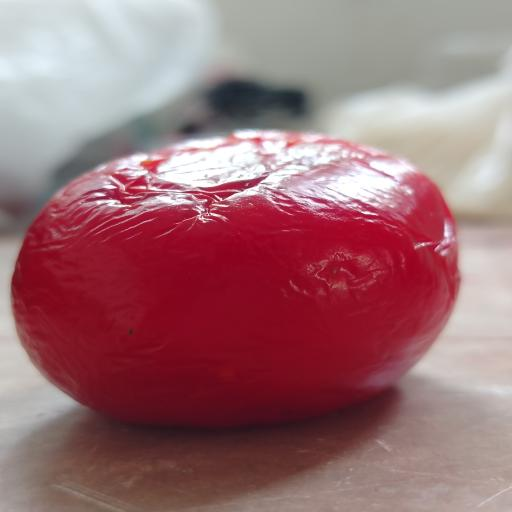spoiled: (12, 131, 459, 427)
